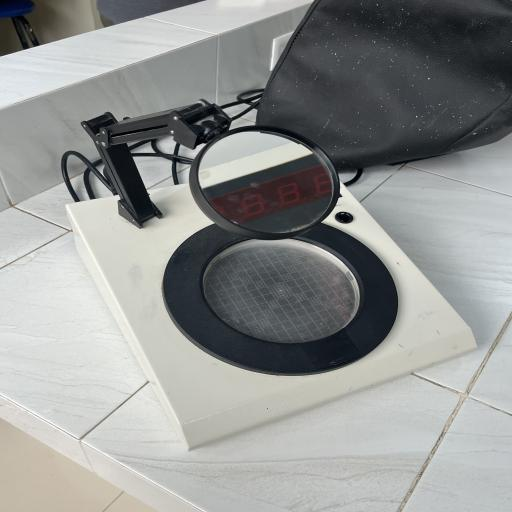Contador_Colonias_CC1: (56, 95, 492, 455)
